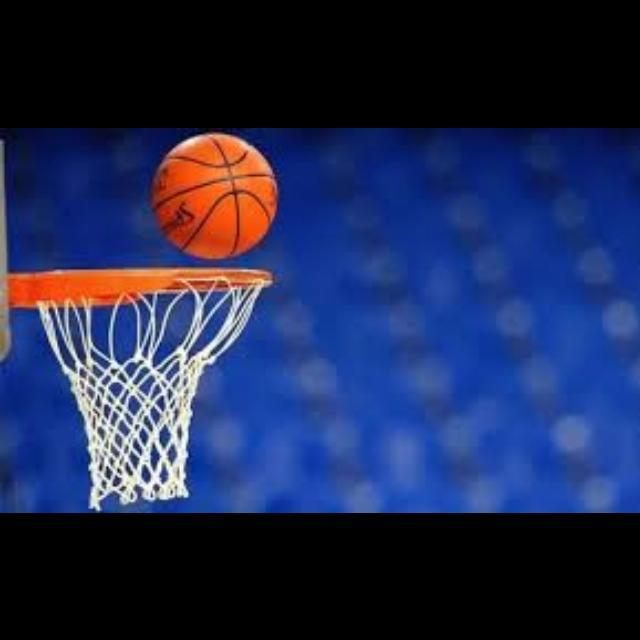basketball: (155, 135, 275, 255)
rim: (36, 267, 272, 498)
